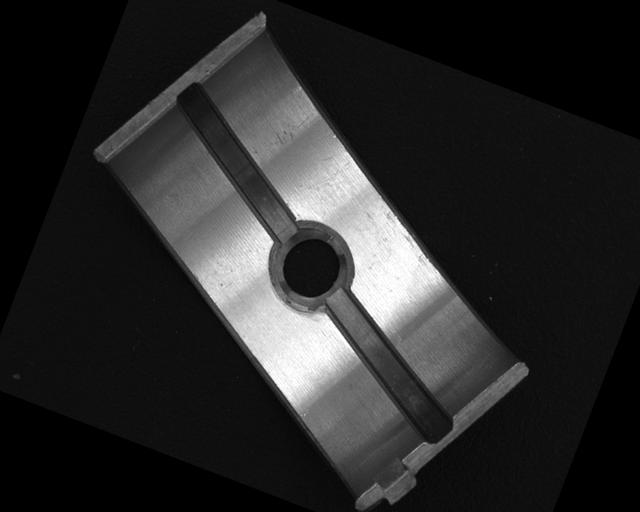gap: (142, 80, 334, 246), (295, 285, 482, 447)
hole: (261, 216, 360, 317)
